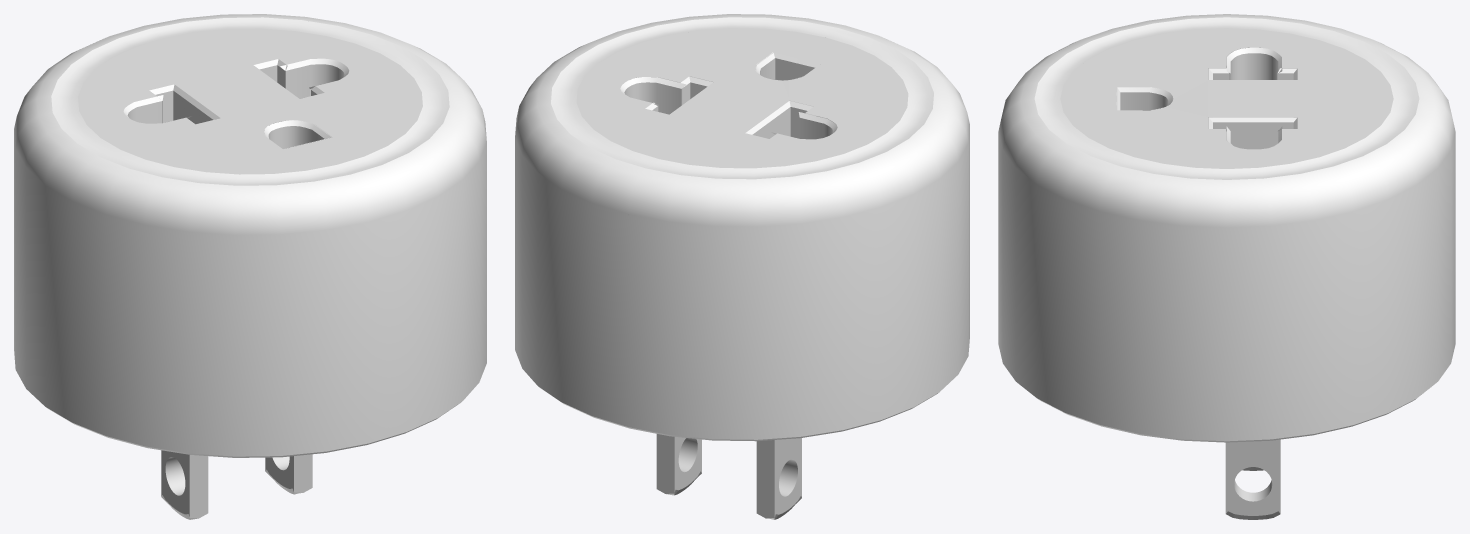
The picture shows the model from 3 angles, left to right: view 1: azimuth 30°, elevation 25°; view 2: azimuth 150°, elevation 25°; view 3: azimuth 270°, elevation 25°; orthographic projection. The views are drawn at different scales.
Parts seen in each view (by area): view 1: Body_Plastic-white_0.001, Body_Plastic-glossy_0.003, Plug; view 2: Body_Plastic-white_0.001, Body_Plastic-glossy_0.003, Plug; view 3: Body_Plastic-white_0.001, Body_Plastic-glossy_0.003, Plug.
Boxes of the visible parts, box(x1,y1,x2,y2) form: Body_Plastic-white_0.001: box(14, 14, 486, 457); Body_Plastic-glossy_0.003: box(51, 17, 449, 185); Plug: box(161, 450, 312, 519); Body_Plastic-white_0.001: box(515, 14, 969, 441); Body_Plastic-glossy_0.003: box(551, 17, 933, 179); Plug: box(656, 434, 801, 519); Body_Plastic-white_0.001: box(998, 14, 1455, 442); Body_Plastic-glossy_0.003: box(1034, 17, 1419, 179); Plug: box(1225, 439, 1280, 519).
Size of the model in its own units: 5 by 4.76 by 5.
3 materials, 2 textured.
